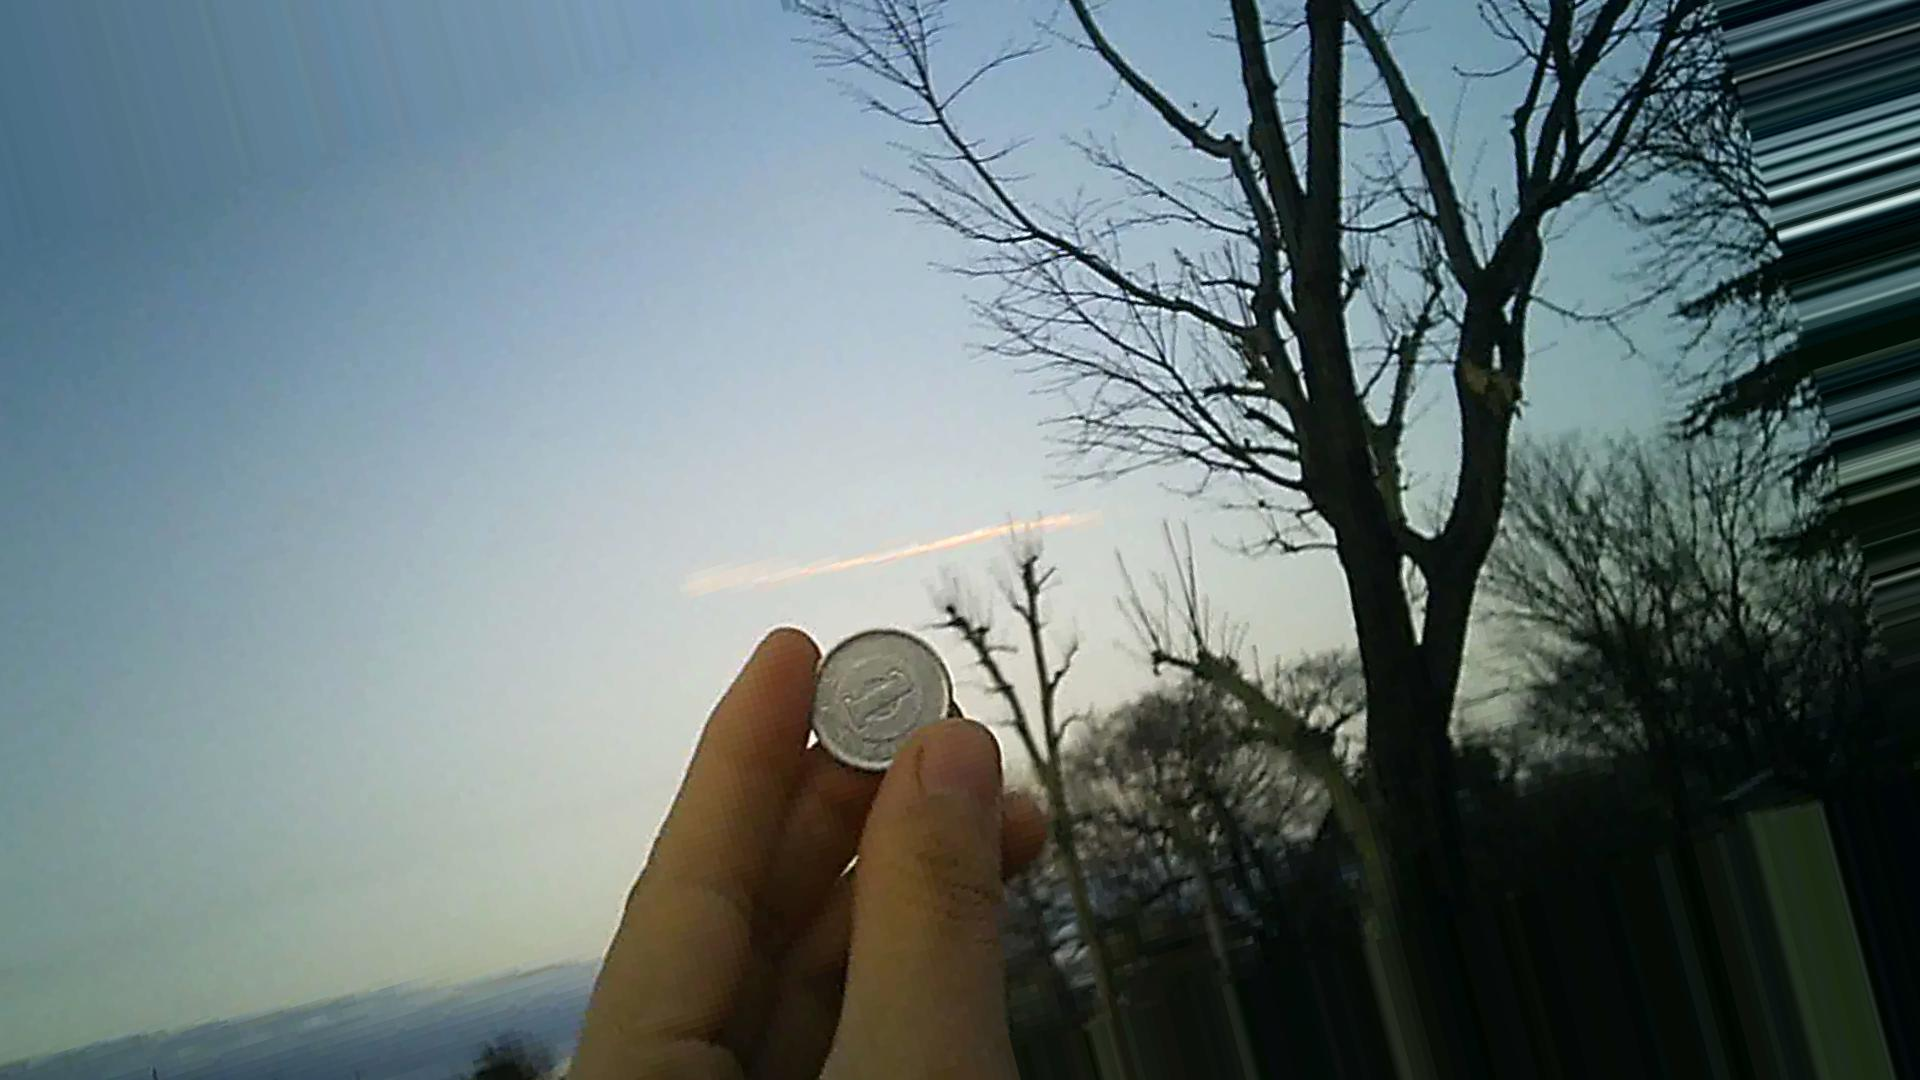1 Yen: (795, 613, 956, 767)
